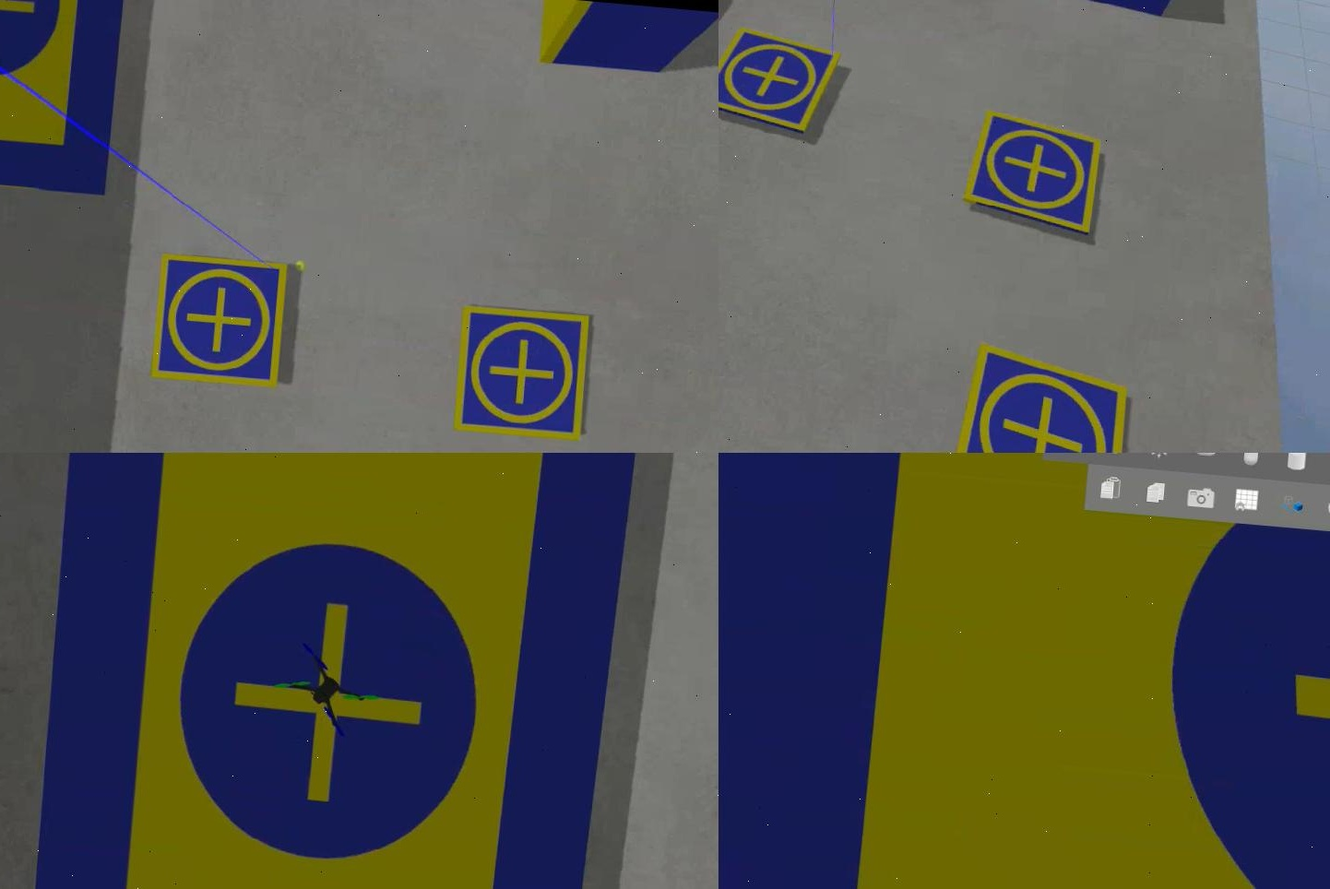large_base: (15, 454, 640, 889), (717, 454, 1328, 889), (0, 1, 127, 198)
small_base: (939, 341, 1133, 454), (449, 304, 592, 446), (148, 251, 291, 391), (961, 112, 1106, 236), (717, 27, 839, 139)
